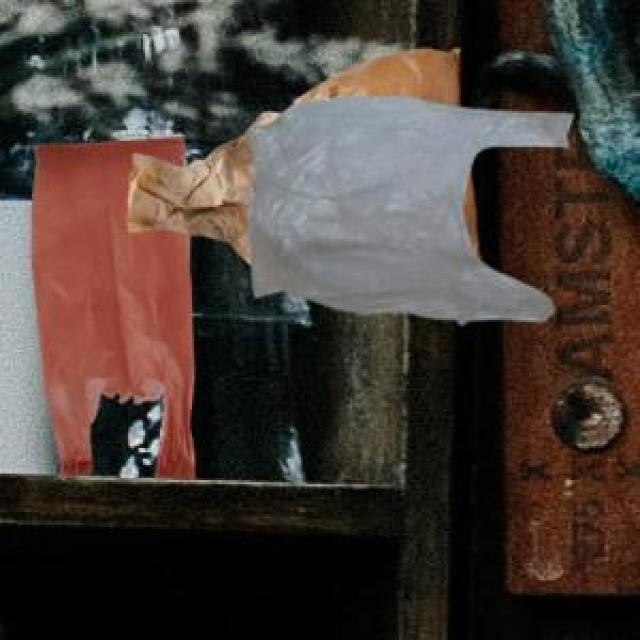paper: (124, 45, 475, 260)
